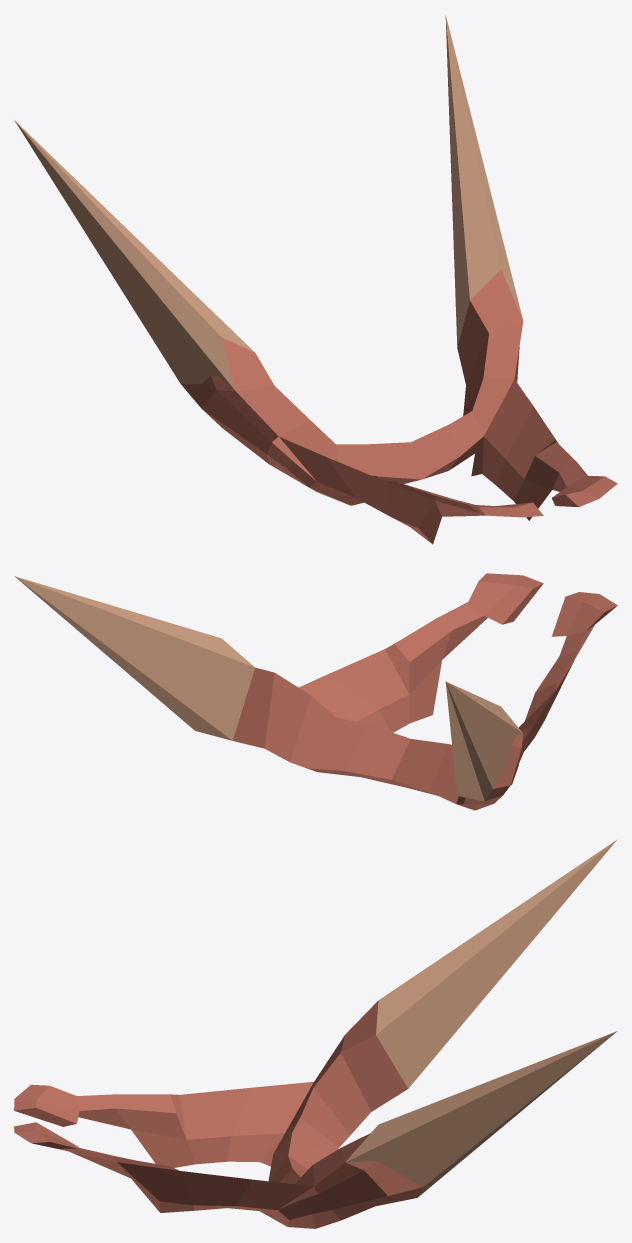
Rendered from ch11-styloglossus.glb.
The picture shows the model from 3 angles, top to bottom: view 1: azimuth 30°, elevation 25°; view 2: azimuth 150°, elevation 25°; view 3: azimuth 270°, elevation 25°; orthographic projection. The views are drawn at different scales.
Visible parts, largest first — view 1: Left styloglossus, Right styloglossus, Right styloid attachment, Left styloid attachment; view 2: Left styloglossus, Left styloid attachment, Right styloglossus, Right styloid attachment; view 3: Right styloglossus, Left styloglossus, Right styloid attachment, Left styloid attachment.
Part boxes in pixels (x1,y1,x2,y2): Left styloglossus: [411, 269, 617, 520]; Right styloglossus: [181, 338, 543, 544]; Right styloid attachment: [14, 120, 254, 390]; Left styloid attachment: [445, 15, 522, 346]; Left styloglossus: [233, 573, 543, 787]; Left styloid attachment: [14, 576, 255, 740]; Right styloglossus: [392, 592, 617, 810]; Right styloid attachment: [445, 681, 522, 801]; Right styloglossus: [14, 1001, 407, 1180]; Left styloglossus: [14, 1122, 422, 1228]; Right styloid attachment: [376, 839, 617, 1088]; Left styloid attachment: [345, 1031, 617, 1202].
Bounding box in the file's own units: 0.0668 × 0.0431 × 0.0889.
